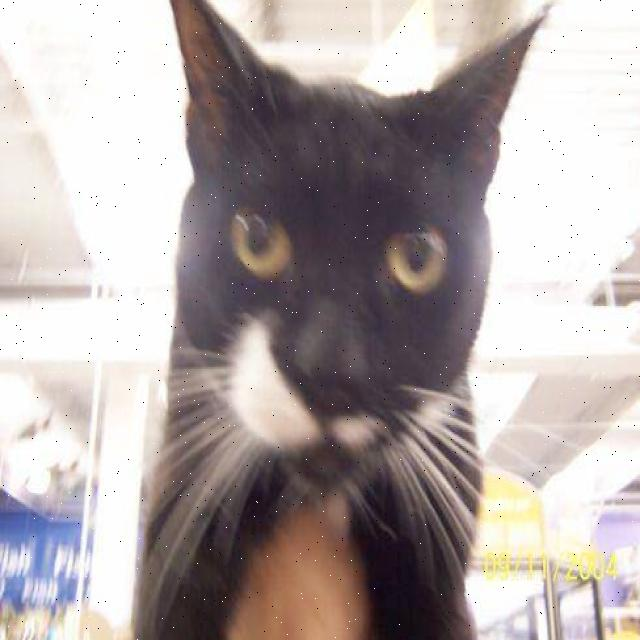Cat: (151, 0, 557, 490)
